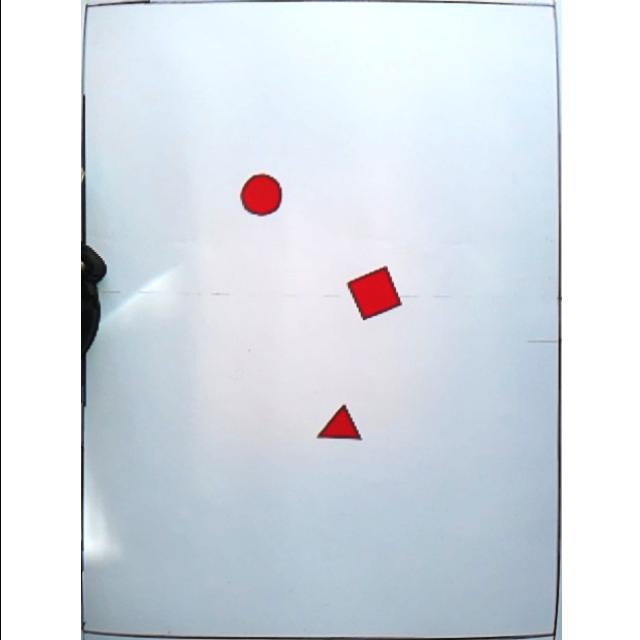redCircle: (236, 173, 280, 217)
redSquare: (344, 265, 401, 321)
redTriangle: (312, 404, 361, 442)
